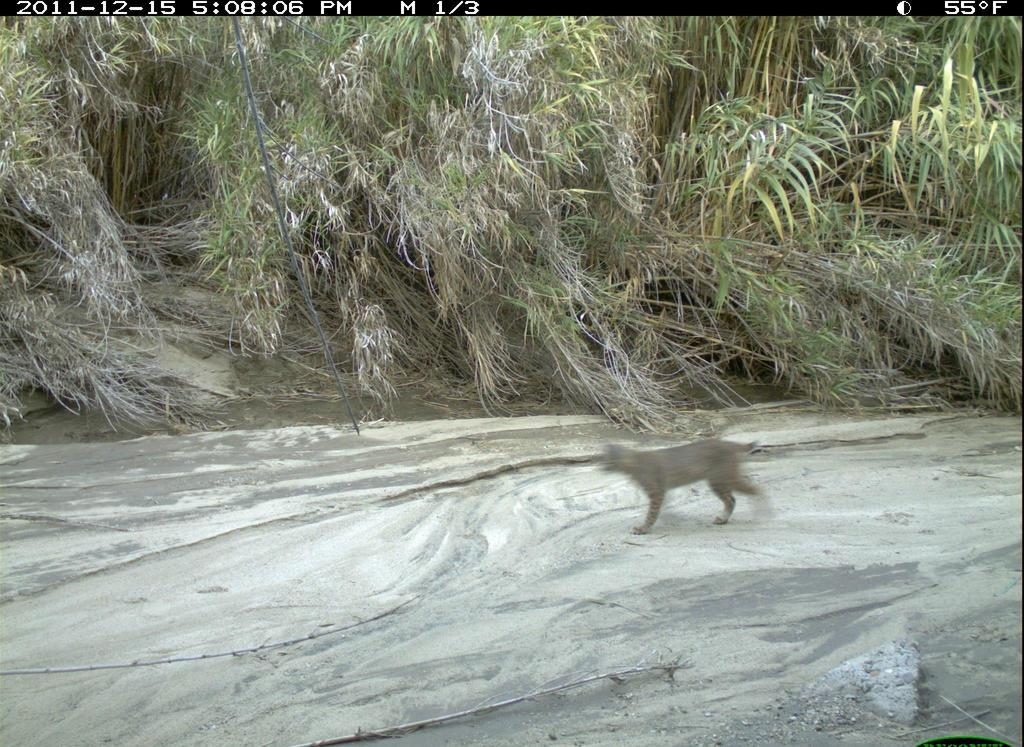bobcat: (591, 429, 780, 542)
